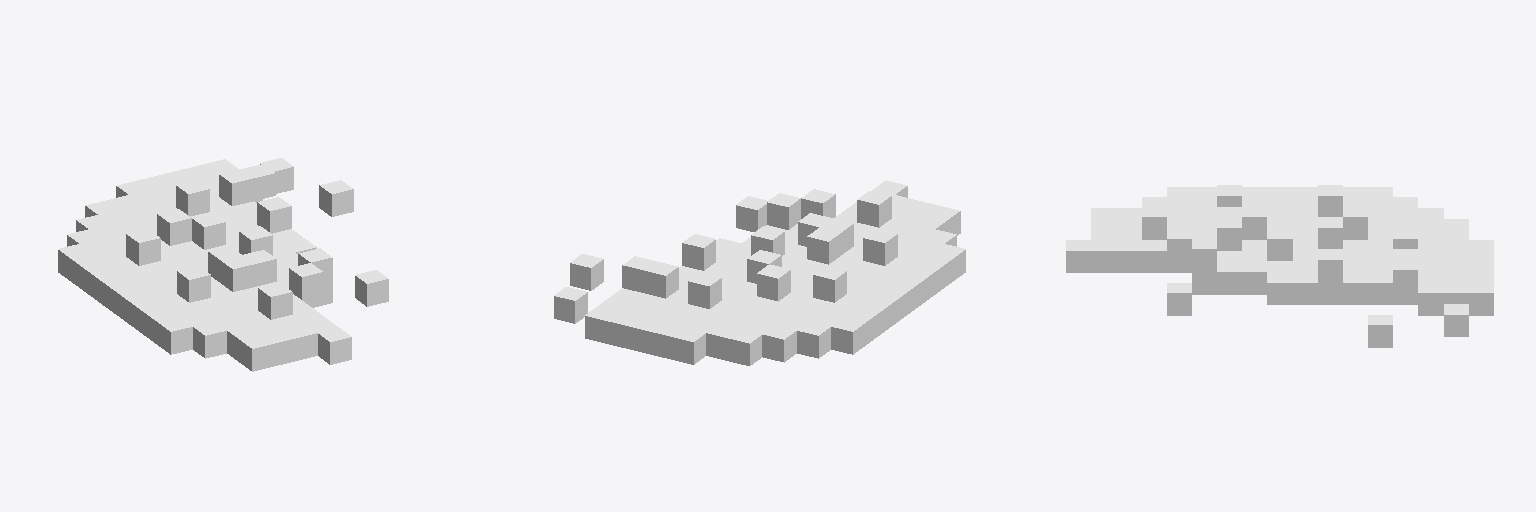
File: pizza0c.obj
3 renders of one model, left to right at view 1: azimuth 30°, elevation 25°; view 2: azimuth 150°, elevation 25°; view 3: azimuth 270°, elevation 25°, orthographic.
Bounding box in the file's own units: 0.65 × 0.1 × 0.85.